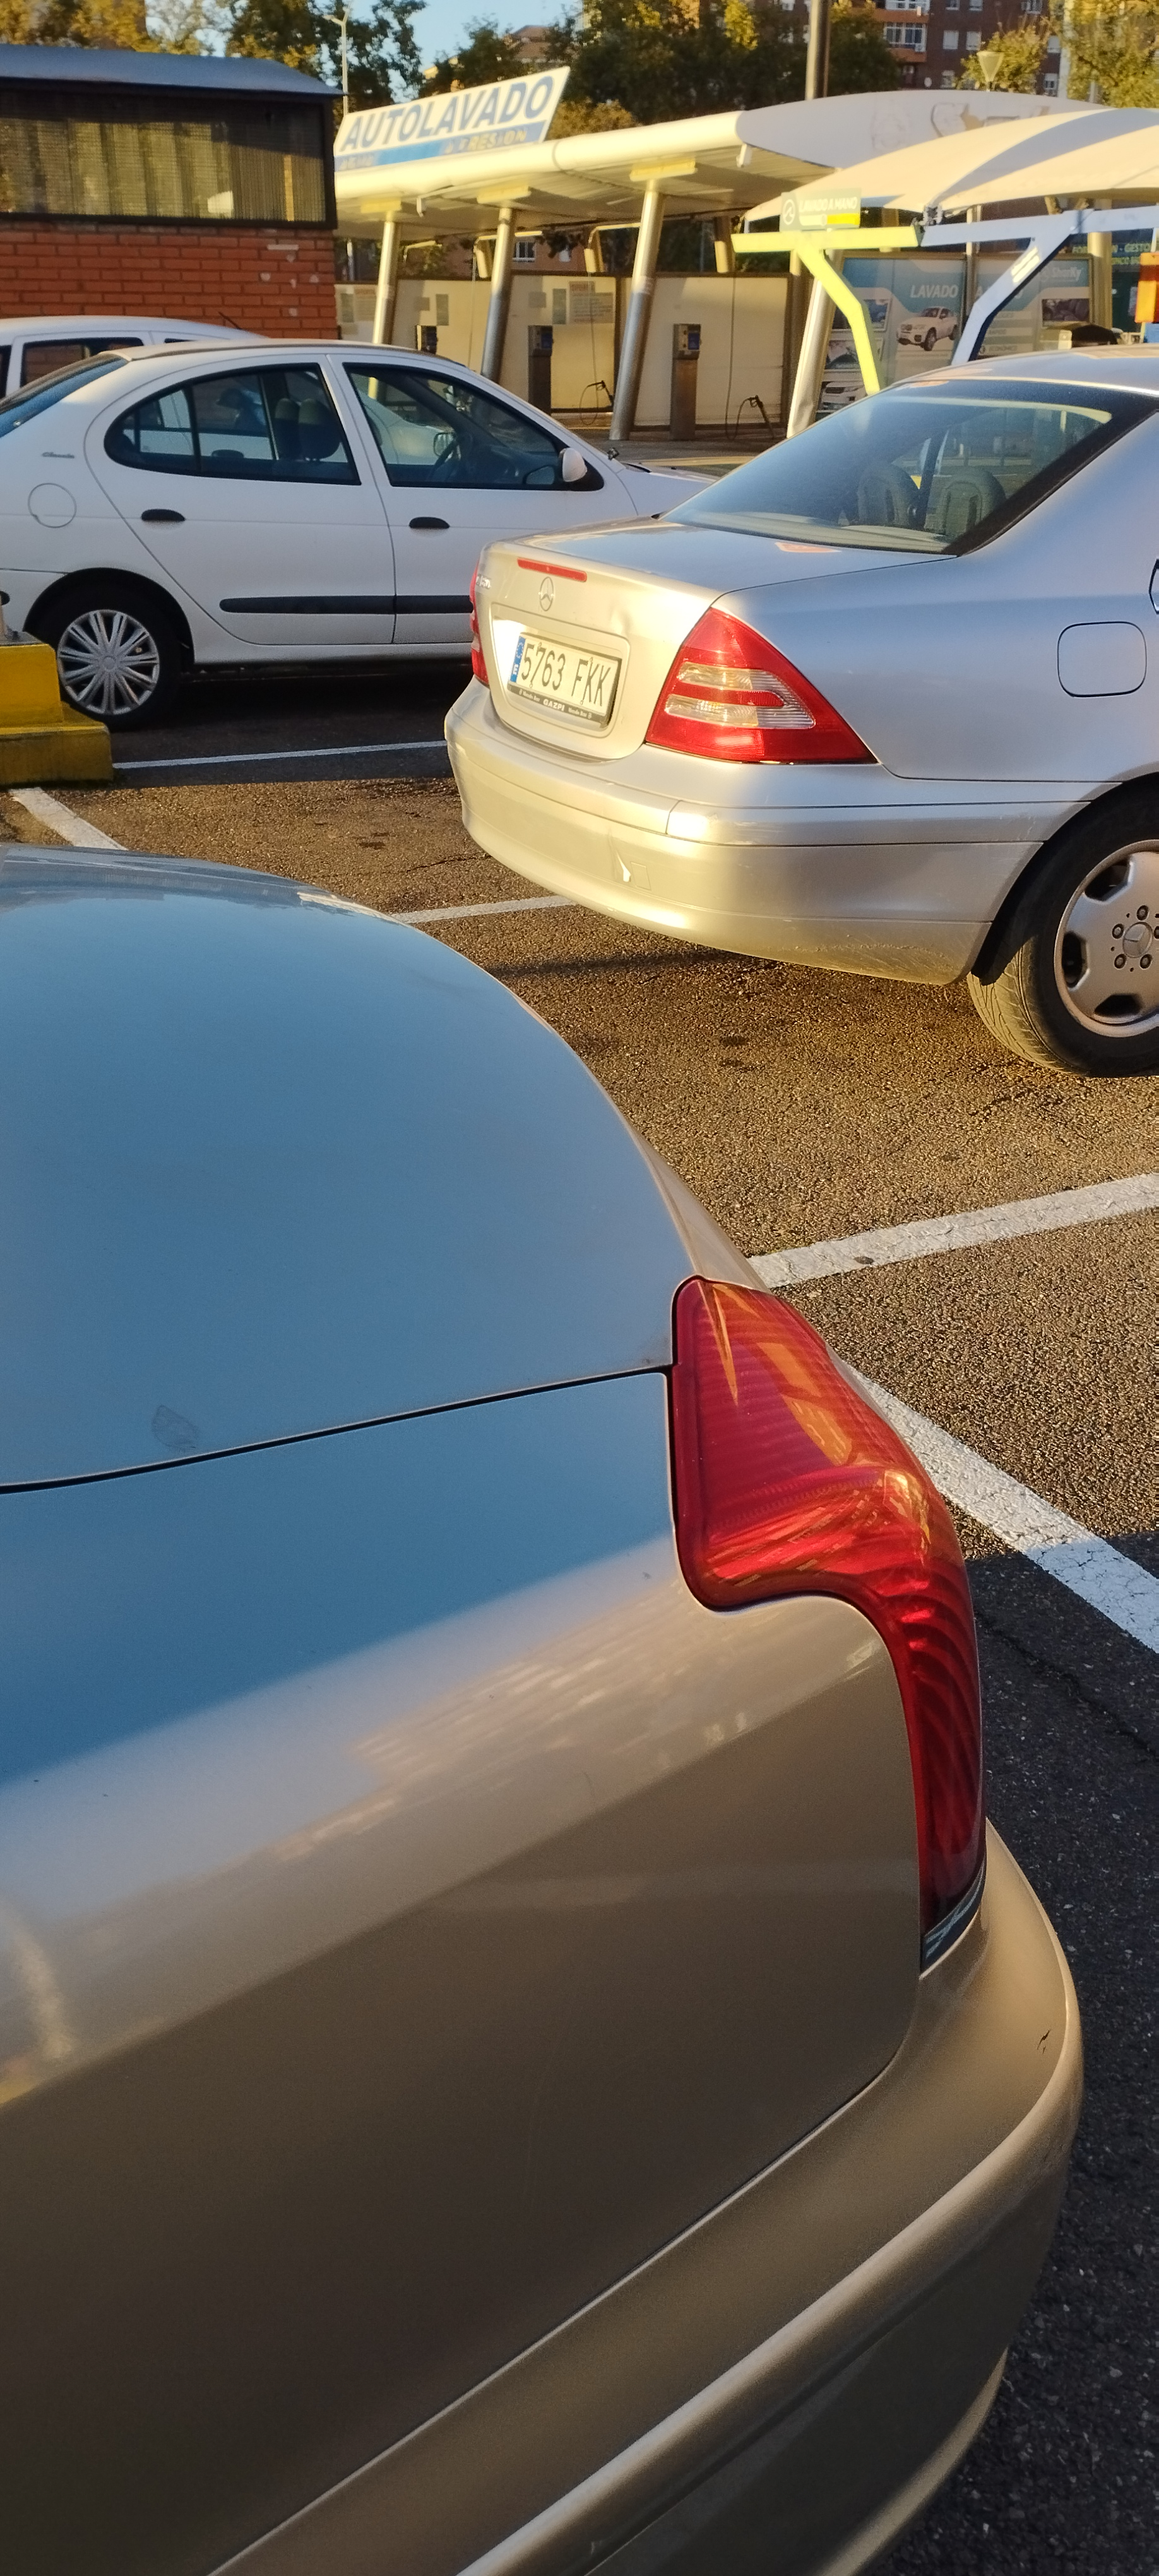Plate: (511, 623, 645, 690)
